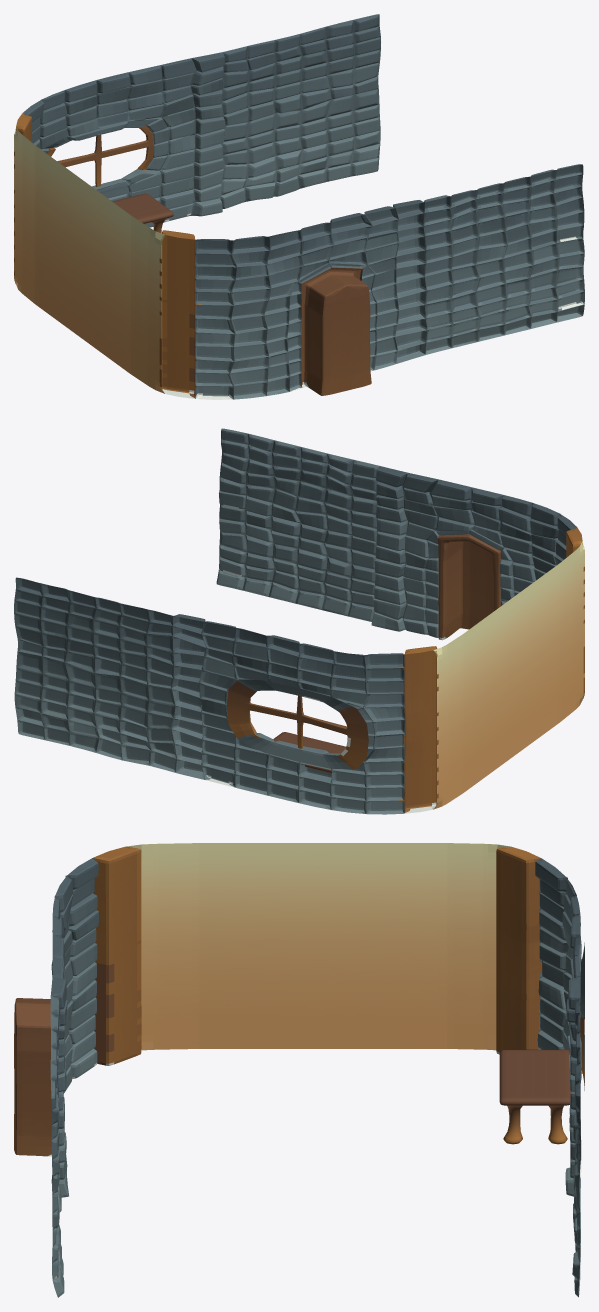
File: house24.fbx
The picture shows the model from 3 angles, top to bottom: view 1: azimuth 30°, elevation 25°; view 2: azimuth 150°, elevation 25°; view 3: azimuth 270°, elevation 25°; orthographic projection. The views are drawn at different scales.
Parts seen in each view (by area): view 1: Walls, Table; view 2: Walls, Table; view 3: Walls, Table.
Part boxes in pixels (x1,y1,x2,y2): Walls: (14, 14, 584, 399); Table: (112, 193, 173, 233); Walls: (14, 428, 584, 814); Table: (273, 732, 346, 773); Walls: (14, 843, 584, 1297); Table: (499, 1049, 570, 1144).
Bounding box in the file's own units: 769 × 297 × 739.
